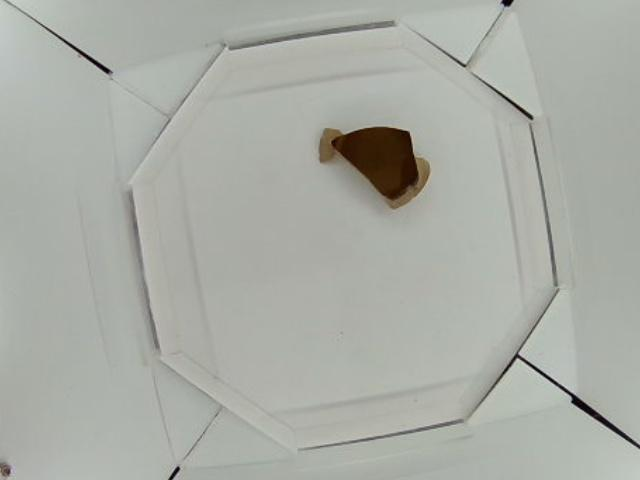China: (320, 118, 434, 209)
